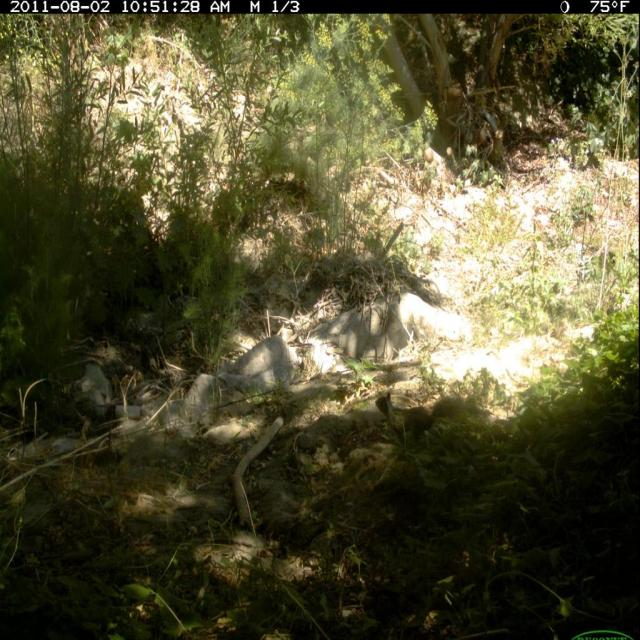squirrel: (372, 384, 488, 450)
